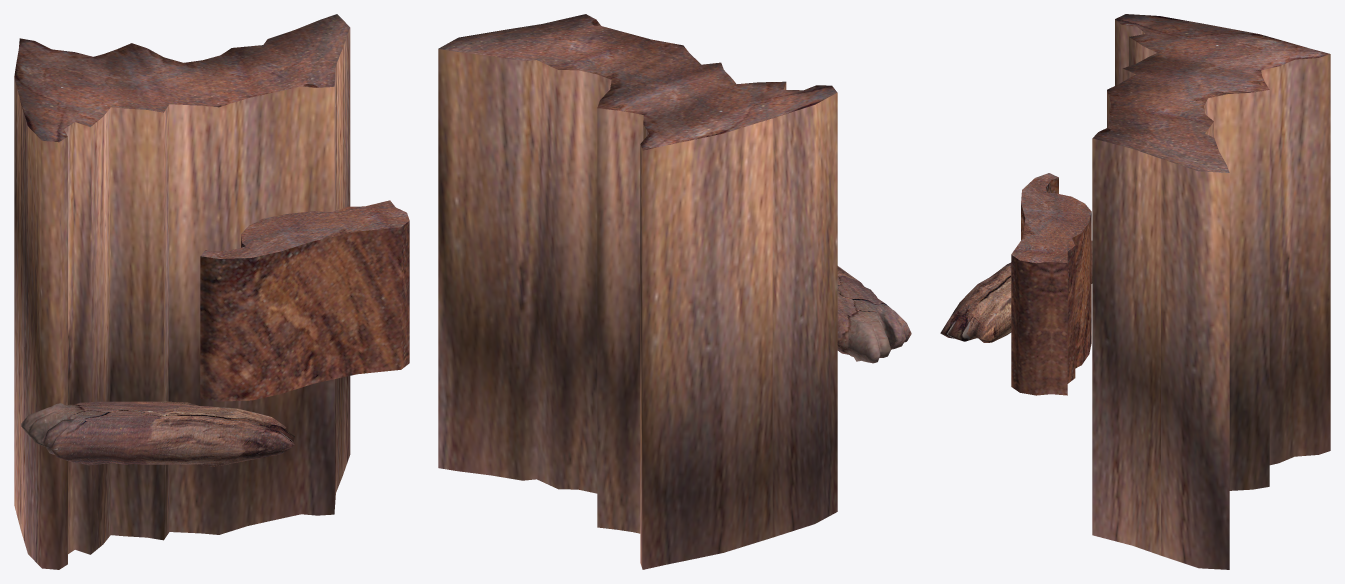
The model's file is jiangxiang.FBX.
The picture shows the model from 3 angles, left to right: view 1: azimuth 30°, elevation 25°; view 2: azimuth 150°, elevation 25°; view 3: azimuth 270°, elevation 25°; orthographic projection. The views are drawn at different scales.
Parts seen in each view (by area): view 1: Line001, Line003, Line002; view 2: Line001, Line002; view 3: Line001, Line003, Line002.
Part boxes in pixels (<box>): Line001: <box>14,14,350,569</box>; Line003: <box>200,200,409,401</box>; Line002: <box>21,401,294,466</box>; Line001: <box>438,14,837,569</box>; Line002: <box>837,266,911,363</box>; Line001: <box>1092,14,1330,569</box>; Line003: <box>1011,173,1091,395</box>; Line002: <box>940,241,1092,342</box>.
Size of the model in its own units: 0.2828 by 0.3 by 0.2674.
